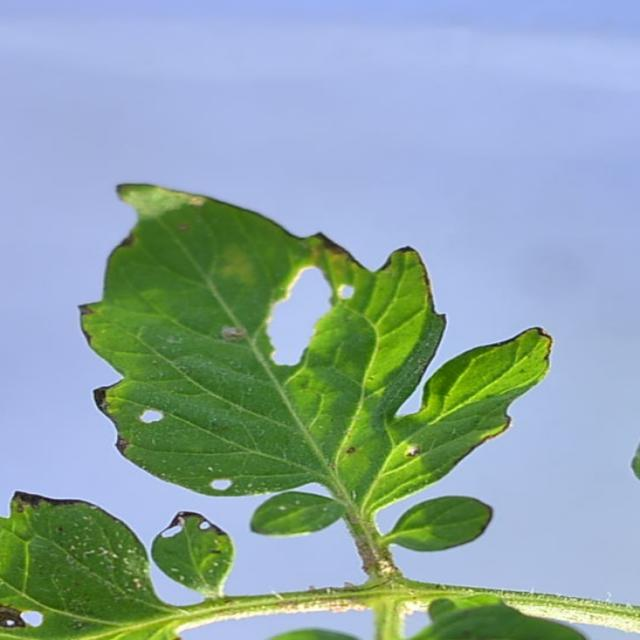infected: (70, 183, 555, 494), (5, 486, 101, 519), (0, 583, 56, 636), (153, 513, 229, 545)
